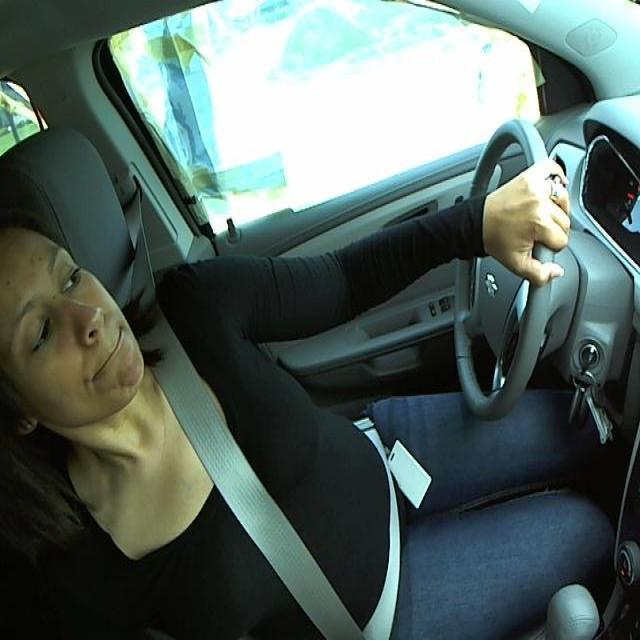seatbelt: (155, 376, 393, 639)
